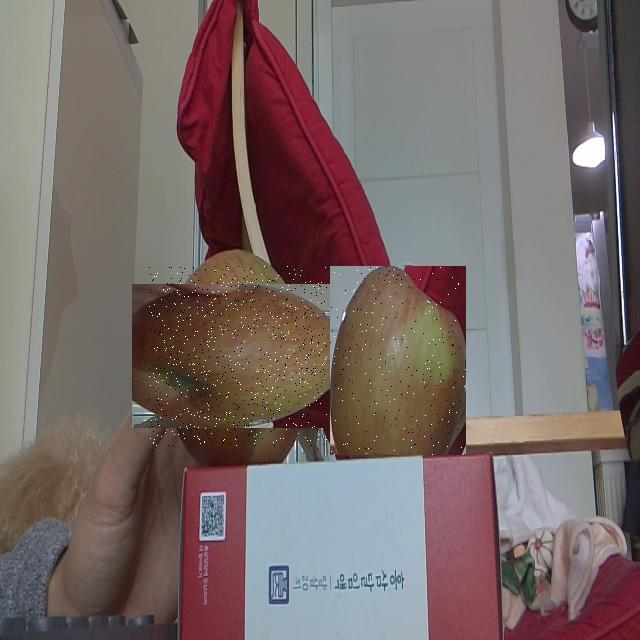apple: (149, 266, 327, 446), (330, 266, 466, 455)
